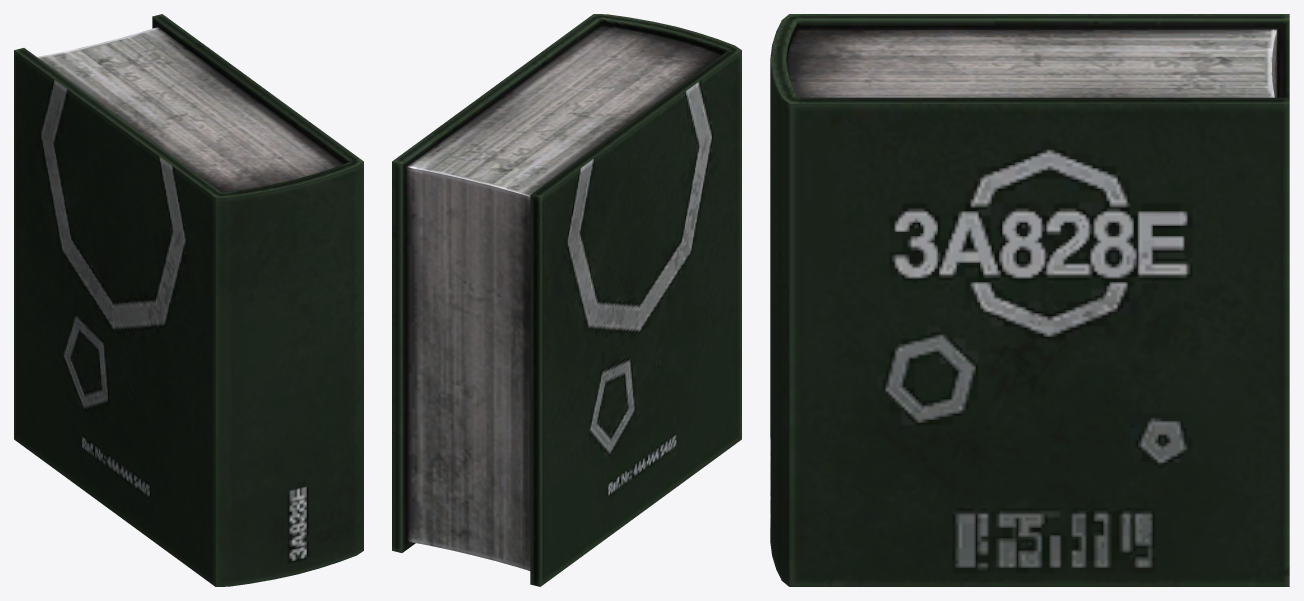
File: book_closed04.dae
3 views of the same model, side by side, from view 1: azimuth 30°, elevation 25°; view 2: azimuth 150°, elevation 25°; view 3: azimuth 270°, elevation 25° (orthographic). The views are drawn at different scales.
Visible parts, largest first — view 1: book_closed04_LP; view 2: book_closed04_LP; view 3: book_closed04_LP.
Boxes of the visible parts, bbox=[...] form: book_closed04_LP: bbox=[14, 14, 363, 586]; book_closed04_LP: bbox=[392, 14, 741, 586]; book_closed04_LP: bbox=[770, 14, 1289, 586].
Size of the model in its own units: 0.1195 by 0.2996 by 0.2918.
